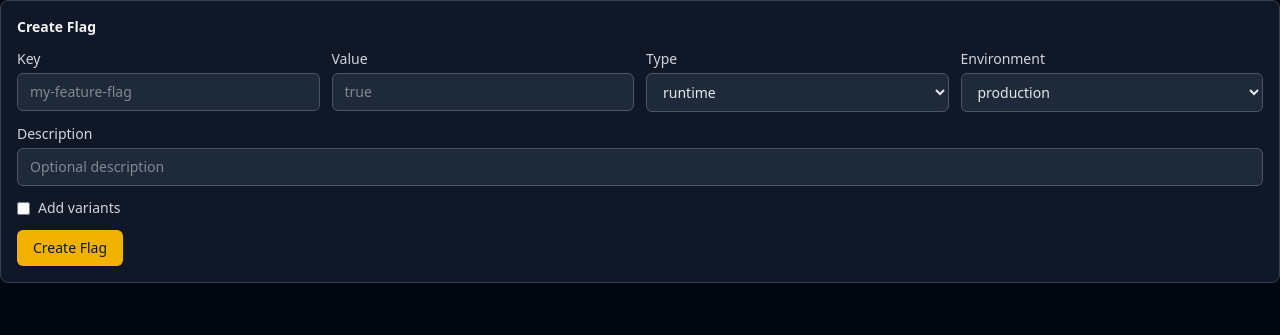
Test: CreateFlagForm › shows validation error for invalid key characters
This screenshot has width=1280, height=335.
Type "inv@lid!" into the field labelled "Key" at (168, 92), box top-left (17, 73), bottom-right (320, 111)
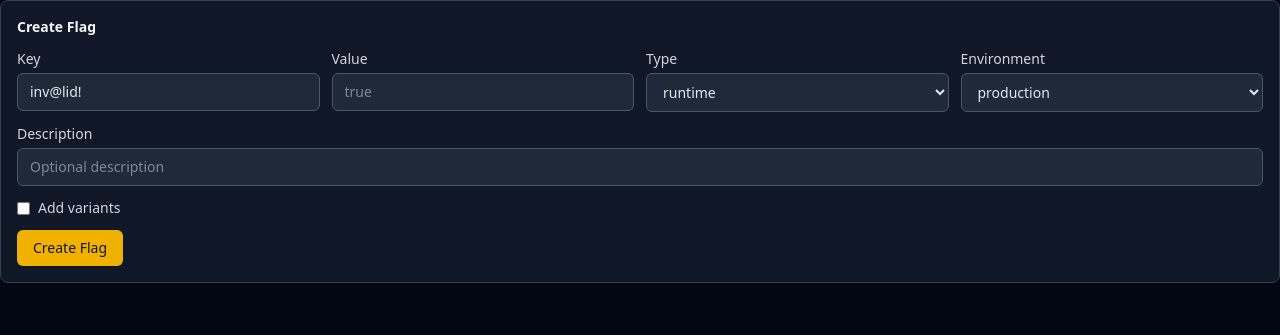
Leave the field labelled "Key", box top-left (17, 73), bottom-right (320, 111)
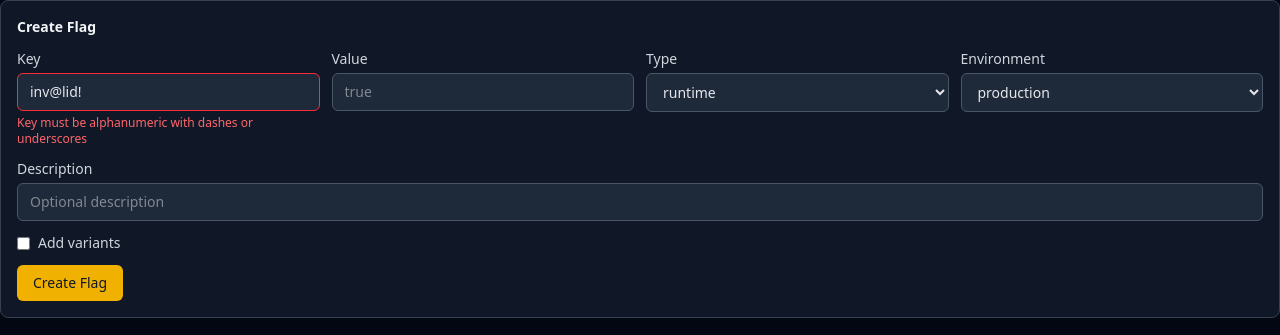
Expected: the list item "Key must be alphanumeric with dashes or underscores" is shown, top-left (17, 114), bottom-right (253, 147)
